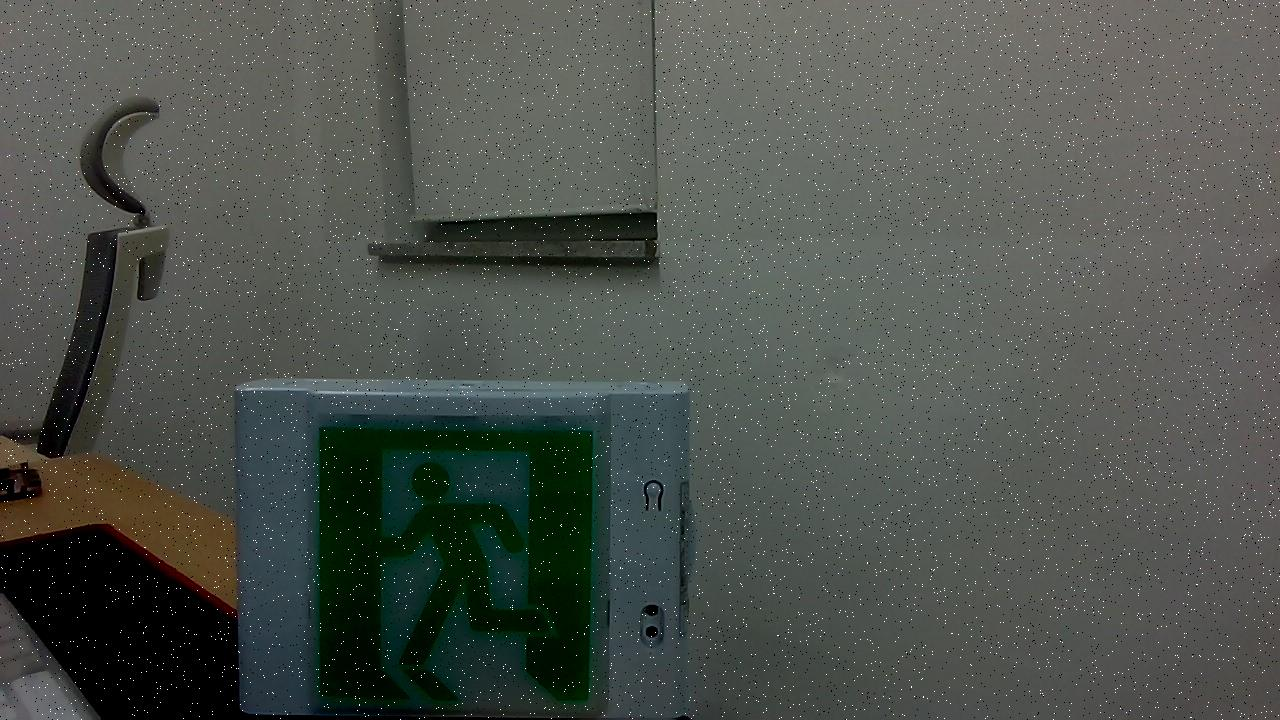emergency_exit: (234, 377, 690, 717)
